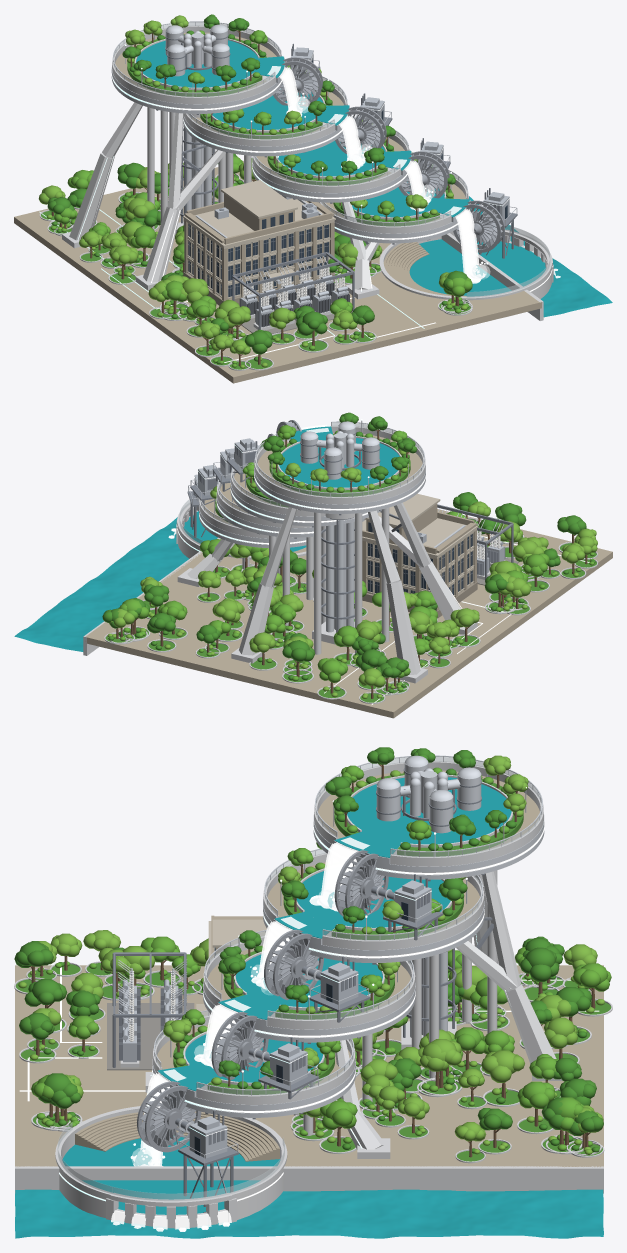
The model's file is q02a-hydro-terrace.glb.
The picture shows the model from 3 angles, top to bottom: view 1: azimuth 30°, elevation 25°; view 2: azimuth 150°, elevation 25°; view 3: azimuth 270°, elevation 25°; orthographic projection. The views are drawn at different scales.
Visible parts, largest first — view 1: q02a_concrete, q02a_plaza, q02a_water, q02a_steel, q02a_leaf2, q02a_leaf, q02a_oldtrim, q02a_leaf3, q02a_grass, q02a_steeldark, q02a_oldconcrete, q02a_glass (+14 smaller); view 2: q02a_concrete, q02a_plaza, q02a_leaf2, q02a_steel, q02a_leaf, q02a_sea, q02a_leaf3, q02a_grass, q02a_steeldark, q02a_oldtrim, q02a_oldconcrete, q02a_water (+6 smaller); view 3: q02a_concrete, q02a_plaza, q02a_sea, q02a_steel, q02a_leaf, q02a_water, q02a_leaf2, q02a_leaf3, q02a_grass, q02a_steeldark, q02a_paving, q02a_glass (+12 smaller).
Boxes of the visible parts, x1,y1,x2,y2 form: q02a_concrete: (39, 25, 553, 370); q02a_plaza: (14, 161, 541, 383); q02a_water: (136, 40, 545, 296); q02a_steel: (111, 21, 517, 296); q02a_leaf2: (38, 15, 467, 368); q02a_leaf: (47, 14, 471, 364); q02a_oldtrim: (183, 180, 335, 298); q02a_leaf3: (50, 30, 472, 367); q02a_grass: (41, 34, 470, 369); q02a_steeldark: (156, 34, 517, 329); q02a_oldconcrete: (184, 193, 334, 301); q02a_glass: (113, 22, 550, 297); q02a_concrete: (83, 425, 598, 703); q02a_plaza: (85, 509, 612, 718); q02a_leaf2: (107, 450, 597, 698); q02a_steel: (188, 420, 504, 632); q02a_leaf: (102, 412, 595, 692); q02a_sea: (14, 517, 189, 651); q02a_leaf3: (118, 425, 594, 691); q02a_grass: (105, 434, 596, 702); q02a_steeldark: (187, 431, 513, 632); q02a_oldtrim: (362, 493, 478, 596); q02a_oldconcrete: (362, 503, 476, 610); q02a_water: (183, 426, 399, 551); q02a_concrete: (14, 761, 612, 1228); q02a_plaza: (15, 965, 603, 1167); q02a_sea: (15, 1189, 603, 1238); q02a_steel: (117, 755, 544, 1163); q02a_leaf: (14, 747, 603, 1153); q02a_water: (62, 777, 511, 1213); q02a_leaf2: (18, 755, 604, 1154); q02a_leaf3: (31, 765, 611, 1153); q02a_grass: (15, 773, 611, 1161); q02a_steeldark: (112, 768, 493, 1212); q02a_paving: (75, 770, 539, 1161); q02a_glass: (57, 756, 541, 1201).
Size of the model in its own units: 64.86 by 35.6 by 65.1.
